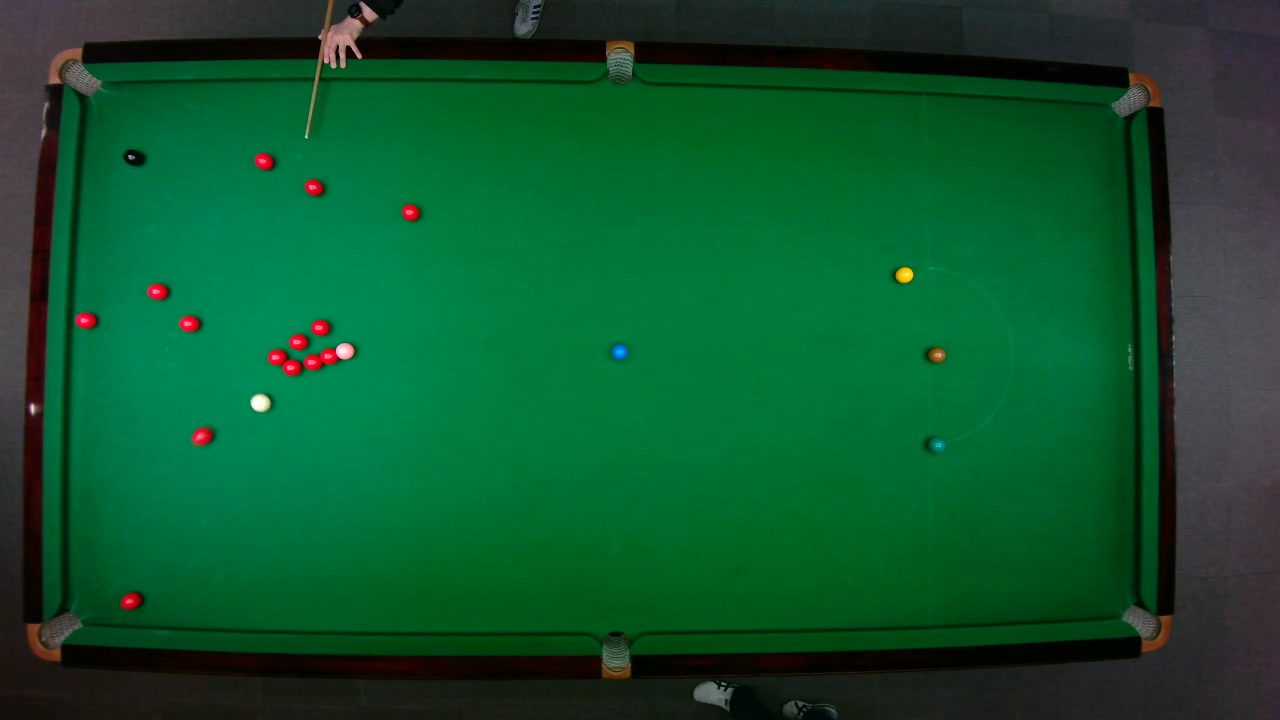bag: (25, 609, 84, 661), (46, 46, 102, 96), (1119, 603, 1171, 652), (1108, 71, 1161, 118), (600, 629, 629, 680), (605, 38, 633, 85)
black: (122, 148, 143, 166)
blue: (610, 342, 628, 360)
brown: (926, 346, 946, 362)
cue: (303, 0, 336, 138)
green: (926, 435, 946, 453)
pink: (334, 341, 355, 360)
red: (190, 425, 213, 446), (118, 590, 142, 610), (145, 281, 169, 300), (73, 310, 97, 328), (177, 314, 200, 332), (253, 151, 274, 170), (302, 352, 324, 370), (400, 202, 420, 221), (303, 178, 324, 196), (287, 332, 308, 350), (281, 358, 302, 376), (265, 348, 287, 365), (309, 318, 330, 335), (319, 346, 337, 365)
white: (248, 391, 272, 412)
yellow: (893, 265, 914, 283)
zone: (926, 266, 1013, 444)
